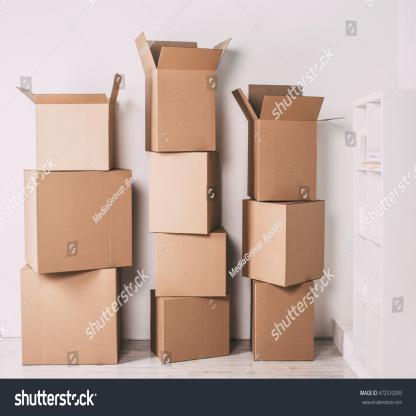box: (37, 171, 131, 276), (21, 270, 117, 366), (36, 102, 108, 170), (149, 152, 208, 234), (158, 69, 216, 152), (258, 119, 316, 200), (155, 233, 227, 297), (164, 295, 230, 364), (256, 284, 314, 361), (242, 199, 286, 289)
